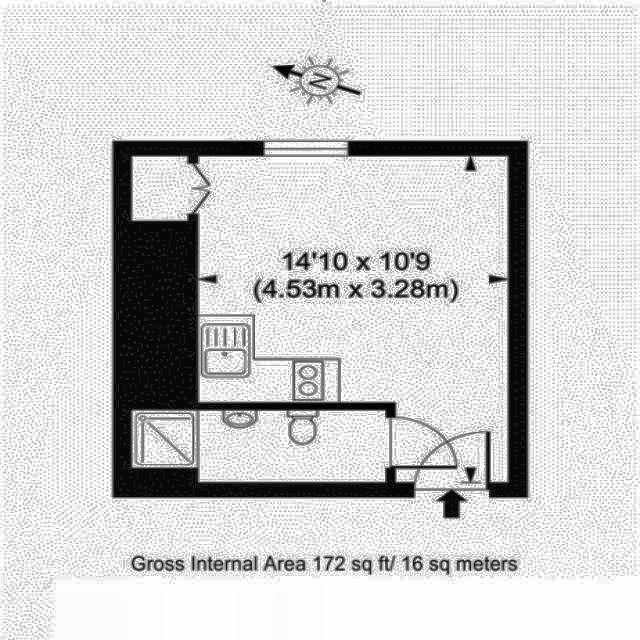room: (132, 158, 511, 485), (132, 409, 385, 481)
